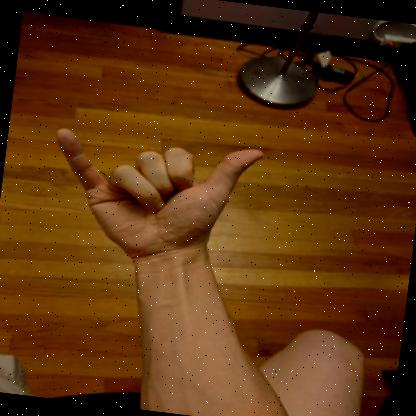Y: (56, 128, 263, 271)
